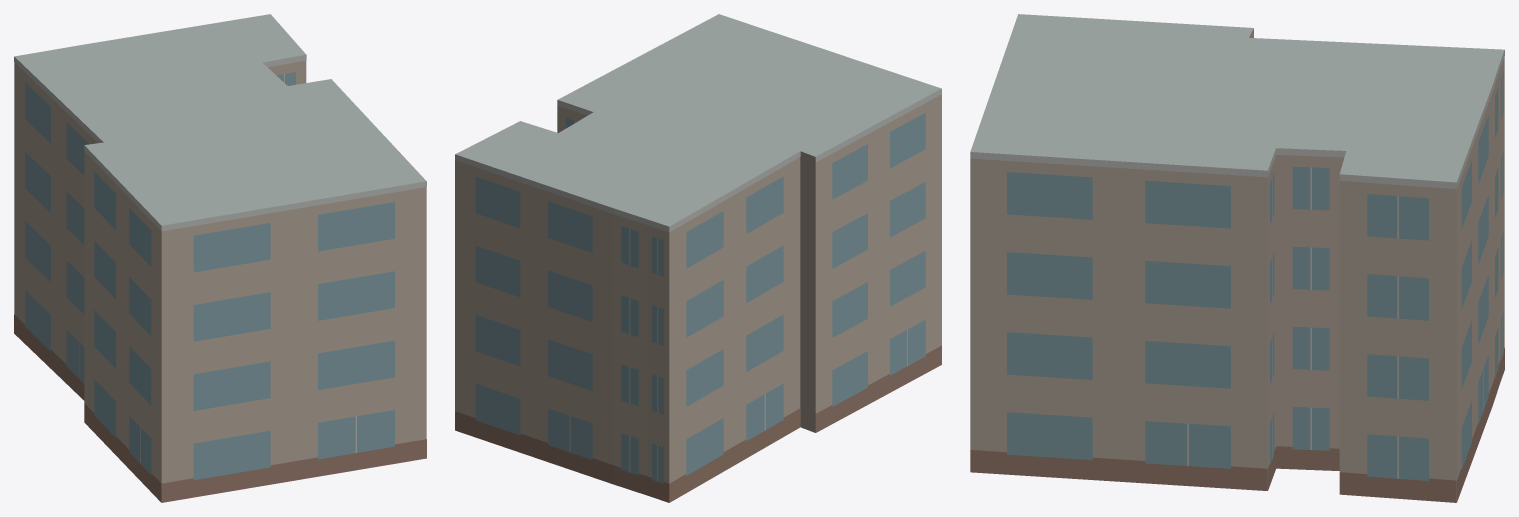
File: survey-upis-32756397.glb
3 views of the same model, side by side, from view 1: azimuth 30°, elevation 25°; view 2: azimuth 150°, elevation 25°; view 3: azimuth 270°, elevation 25° (orthographic). The views are drawn at different scales.
Parts seen in each view (by area): view 1: survey-upis-32756397.tmp; view 2: survey-upis-32756397.tmp; view 3: survey-upis-32756397.tmp.
Part boxes in pixels (left/top/right/bottom): survey-upis-32756397.tmp: left=14, top=14, right=426, bottom=502; survey-upis-32756397.tmp: left=455, top=14, right=941, bottom=502; survey-upis-32756397.tmp: left=970, top=14, right=1504, bottom=502.
Bounding box in the file's own units: 13.32 × 11.8 × 17.85.
